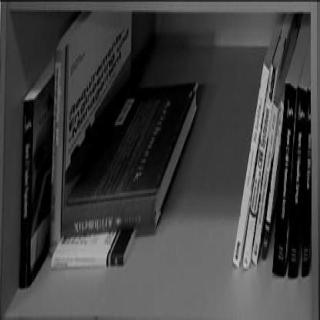book-spine: (231, 62, 271, 267), (242, 61, 278, 268), (271, 81, 297, 273), (251, 102, 279, 263), (59, 192, 160, 234), (48, 45, 67, 254), (261, 98, 285, 258), (288, 87, 307, 278), (18, 98, 34, 287), (302, 88, 313, 276), (50, 254, 123, 266)
